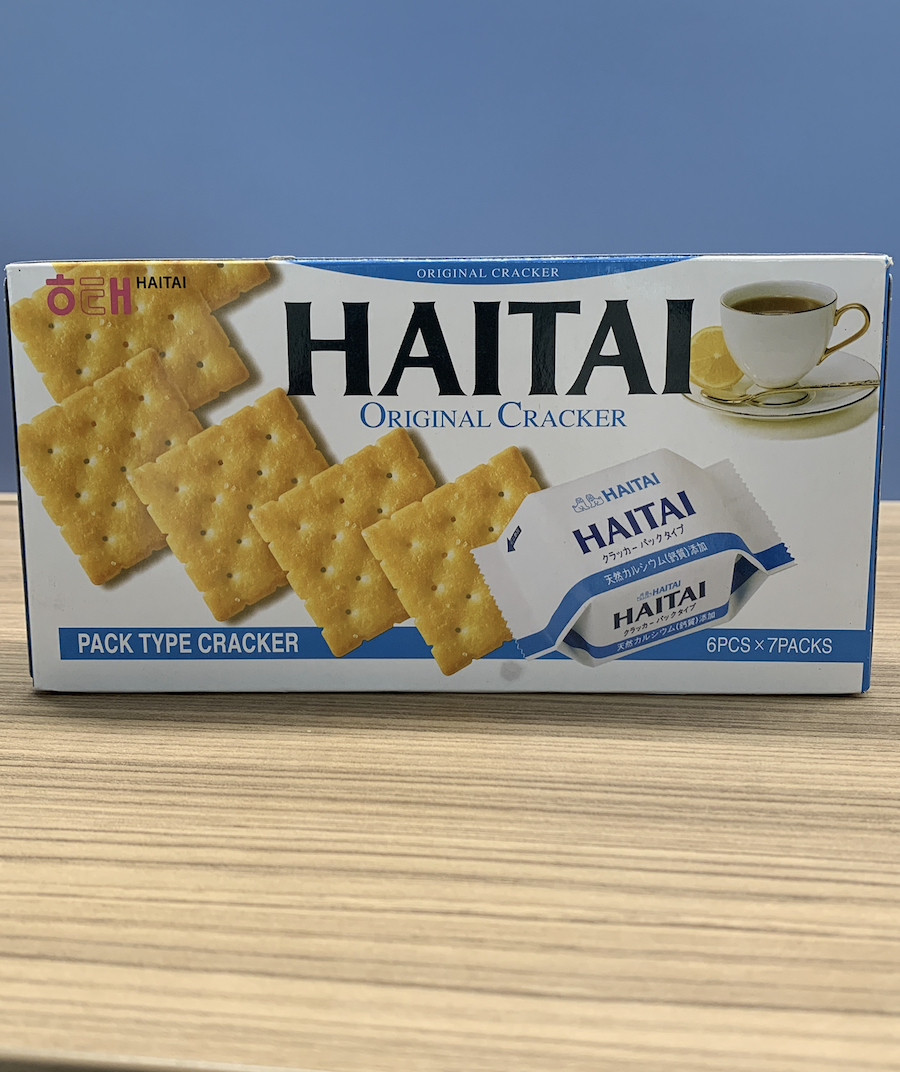crackers_150g: (34, 270, 849, 674)
